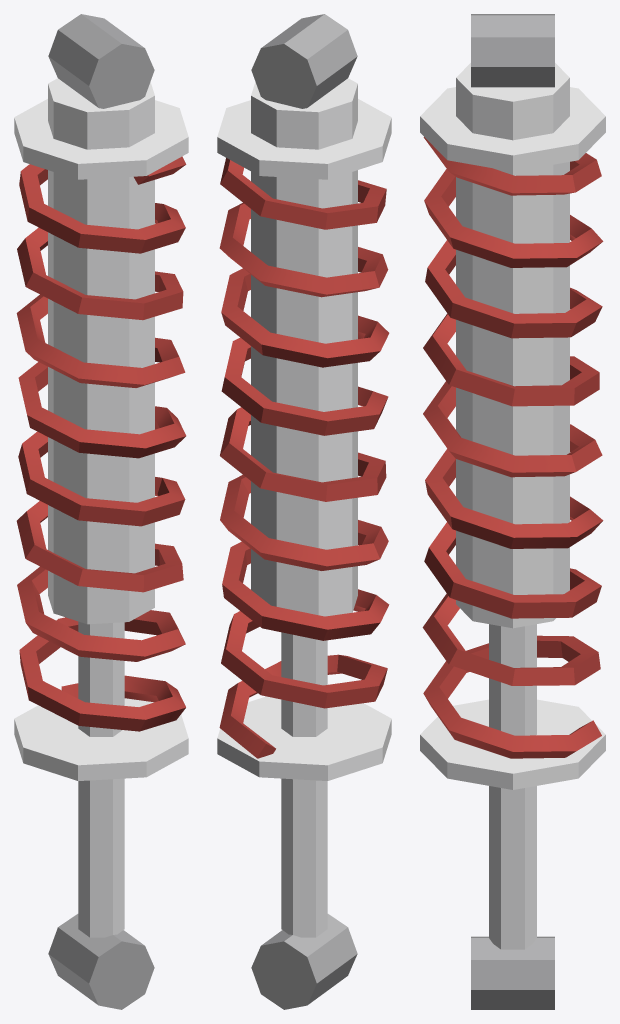
Rendered from twin_shock_lod1.glb.
3 renders of one model, left to right at view 1: azimuth 30°, elevation 25°; view 2: azimuth 150°, elevation 25°; view 3: azimuth 270°, elevation 25°, orthographic. The views are drawn at different scales.
Parts seen in each view (by area): view 1: twin_shock_lod1; view 2: twin_shock_lod1; view 3: twin_shock_lod1.
Boxes of the visible parts, x1=… form: twin_shock_lod1: x1=14, y1=14, x2=188, y2=1009; twin_shock_lod1: x1=217, y1=14, x2=391, y2=1009; twin_shock_lod1: x1=420, y1=14, x2=605, y2=1009.
Bounding box in the file's own units: 0.062 × 0.366 × 0.062.
